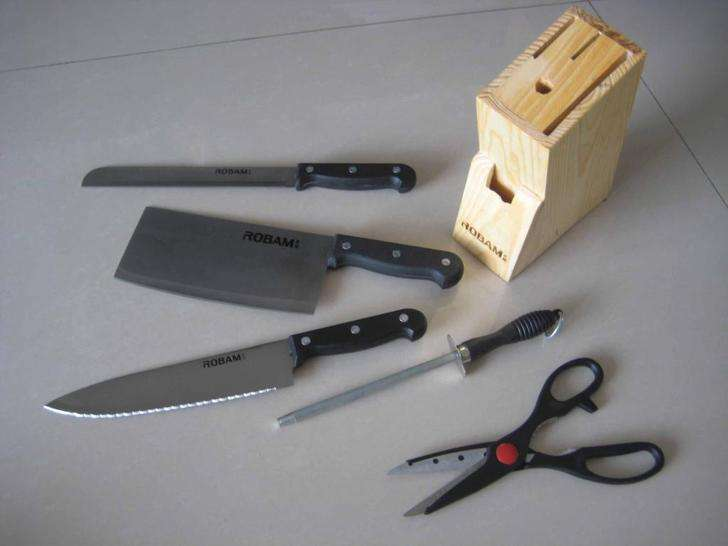knife: (27, 150, 470, 356), (25, 363, 271, 419)
